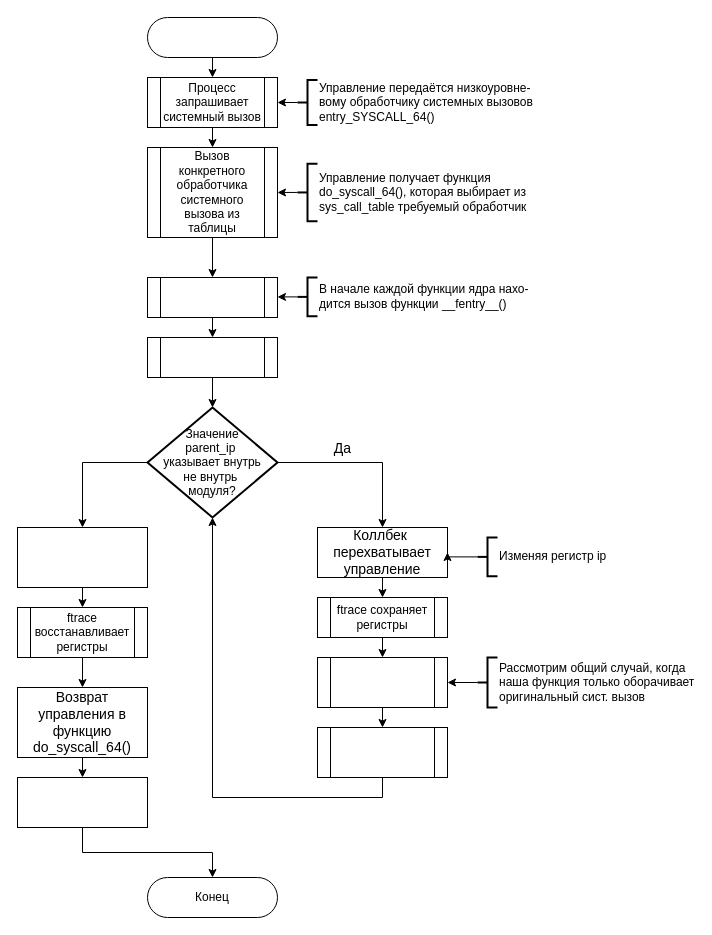
Some shapes in this 712 by 935 pixel diagram are drawn without their labels. Here are the shapes that lost their labels. From the top down, the box of each, then its label:
(146, 16, 278, 58): Начало
(146, 276, 278, 318): Вызов ftrace
(146, 336, 278, 378): ftrace вызывает функцию-коллбек
(16, 526, 148, 588): Возврат управления в функцию-обёртку
(316, 656, 448, 708): Вызов подменной функции (обёртки)
(316, 726, 448, 778): Вызов оригинальной функции
(16, 776, 148, 828): Возврат результата процессу
